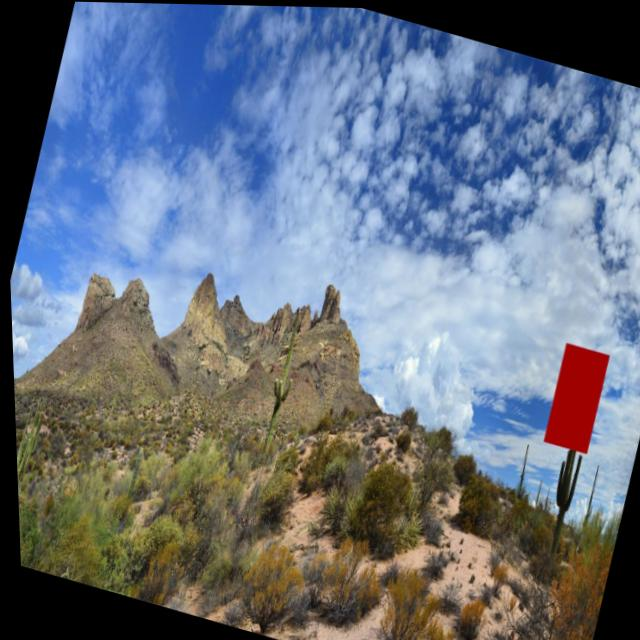RedSquare: (533, 332, 615, 464)
